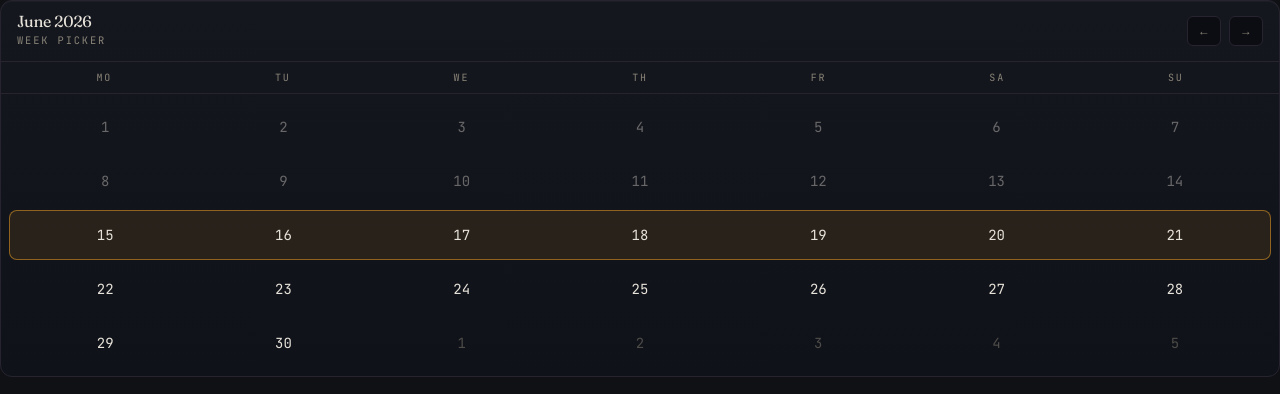
Test: WeekPicker › month nav moves to the next month
This screenshot has width=1280, height=394.
Click the button named "Next month" at x=1246, y=31, box [1229, 16, 1263, 46]
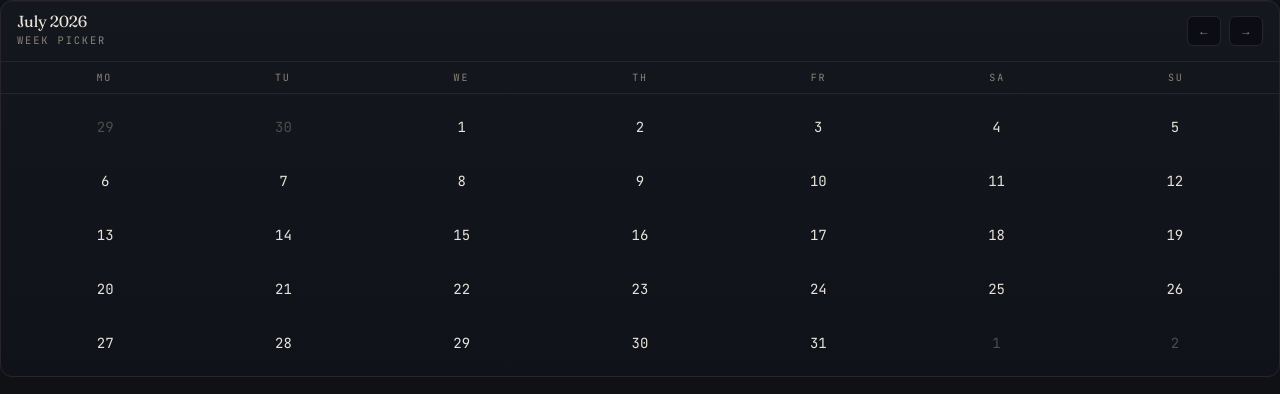
Now the text "July 2026" is shown, box [17, 11, 87, 31]
